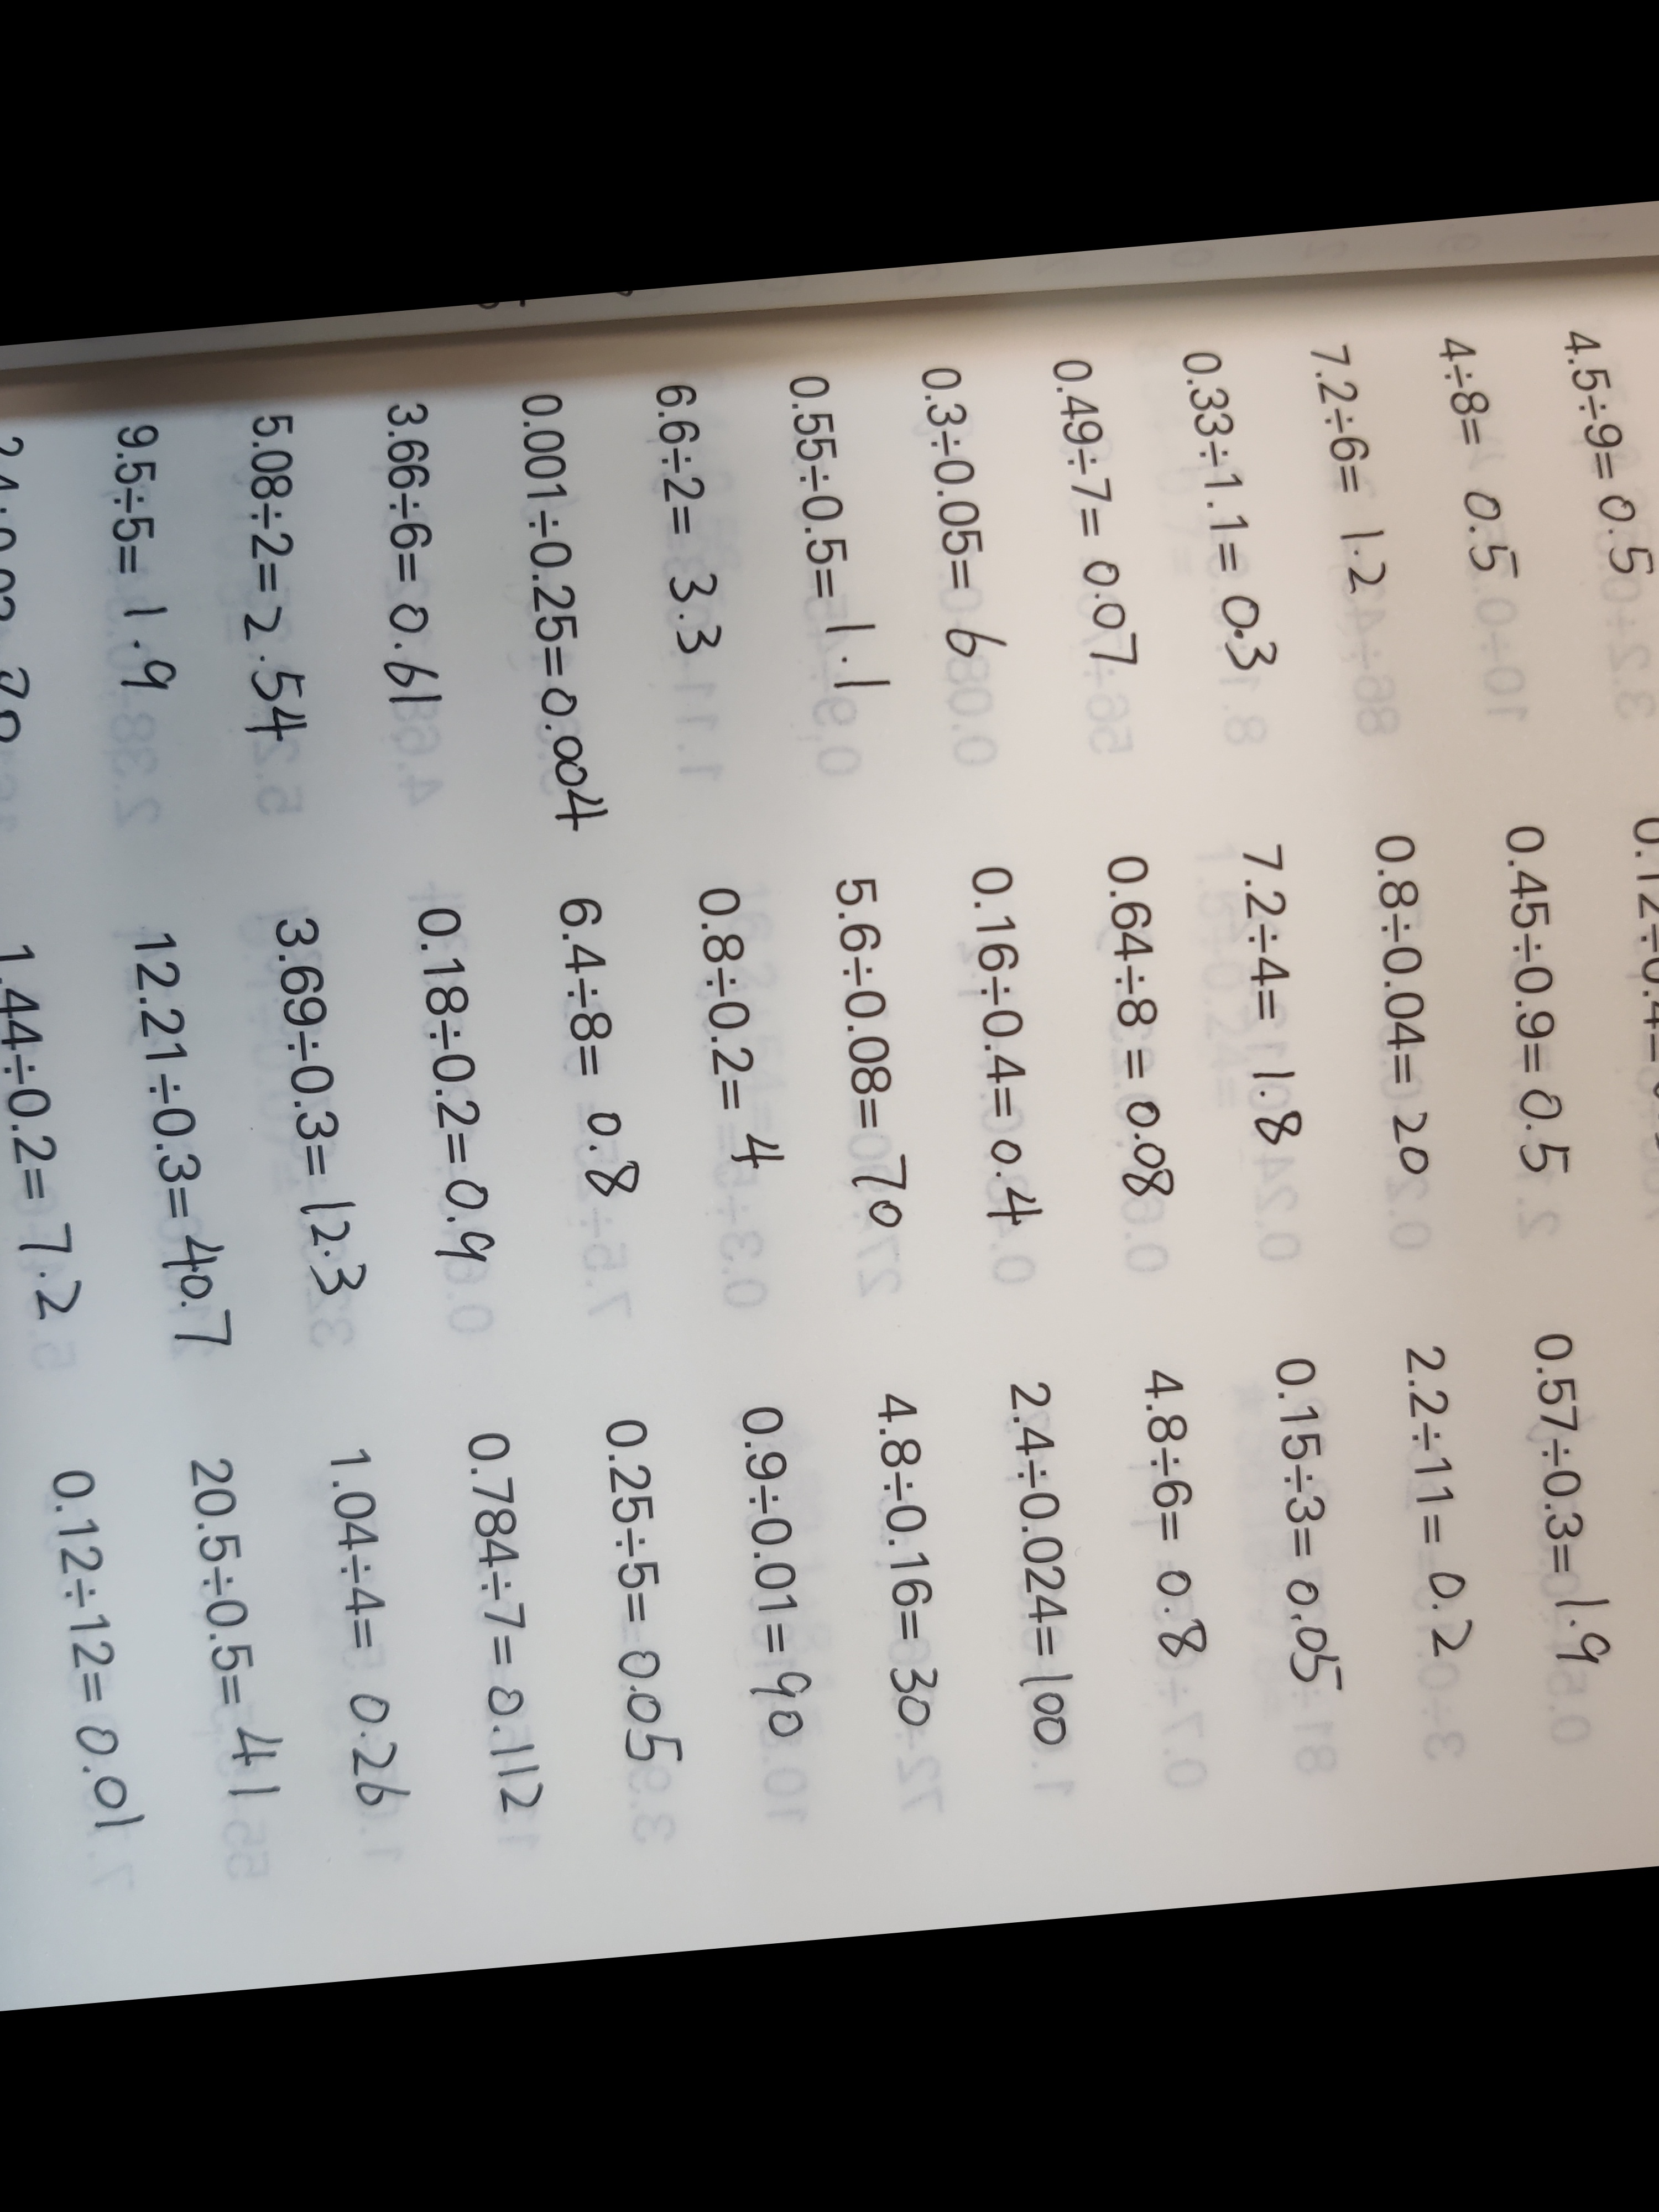equation: (25, 1446, 148, 1839), (124, 908, 229, 1356), (823, 860, 940, 1248), (947, 852, 1067, 1230), (512, 384, 613, 832), (220, 403, 346, 751), (392, 893, 504, 1281), (447, 1420, 554, 1822), (174, 1446, 286, 1822), (1082, 840, 1193, 1212), (264, 905, 364, 1310), (576, 1404, 681, 1780), (313, 1443, 417, 1818), (1484, 811, 1583, 1193), (994, 1360, 1089, 1758), (721, 1396, 828, 1741), (1179, 340, 1281, 690), (785, 357, 887, 707), (1364, 821, 1460, 1190), (1039, 345, 1144, 682), (864, 1379, 965, 1731), (1520, 1314, 1616, 1678), (0, 932, 80, 1342), (691, 872, 791, 1196), (1217, 833, 1318, 1147), (362, 394, 457, 722), (548, 890, 641, 1223), (1390, 1326, 1479, 1673), (1260, 1350, 1345, 1704), (87, 411, 189, 701), (915, 351, 1001, 675), (1126, 1356, 1214, 1667), (1561, 318, 1659, 596), (1429, 325, 1525, 603), (651, 370, 728, 679), (1311, 333, 1392, 618), (0, 425, 54, 744), (1615, 799, 1659, 1165), (1640, 1301, 1659, 1656)
